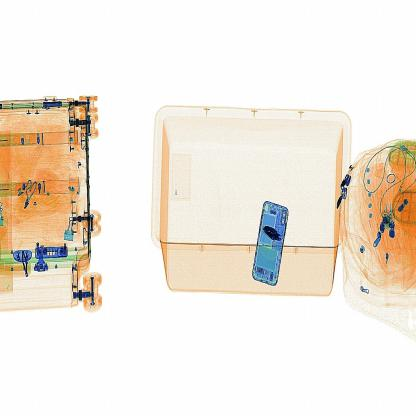scissors: (256, 218, 287, 250)
